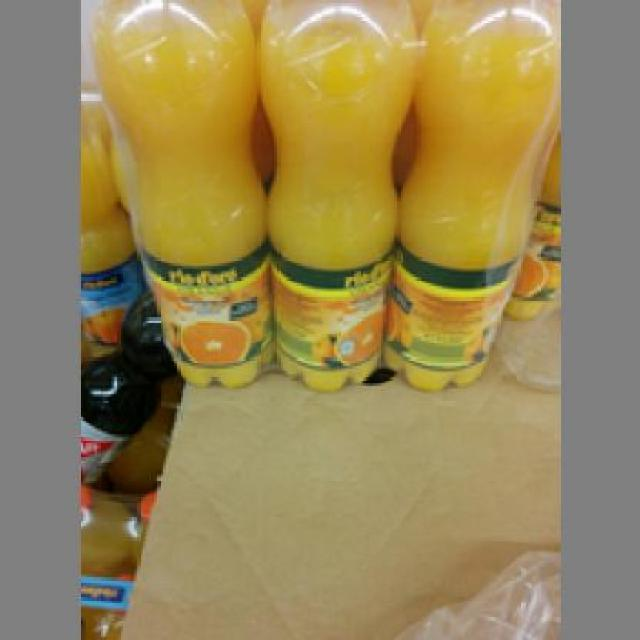Juice: (88, 0, 266, 383), (254, 0, 420, 386), (392, 2, 552, 392)
